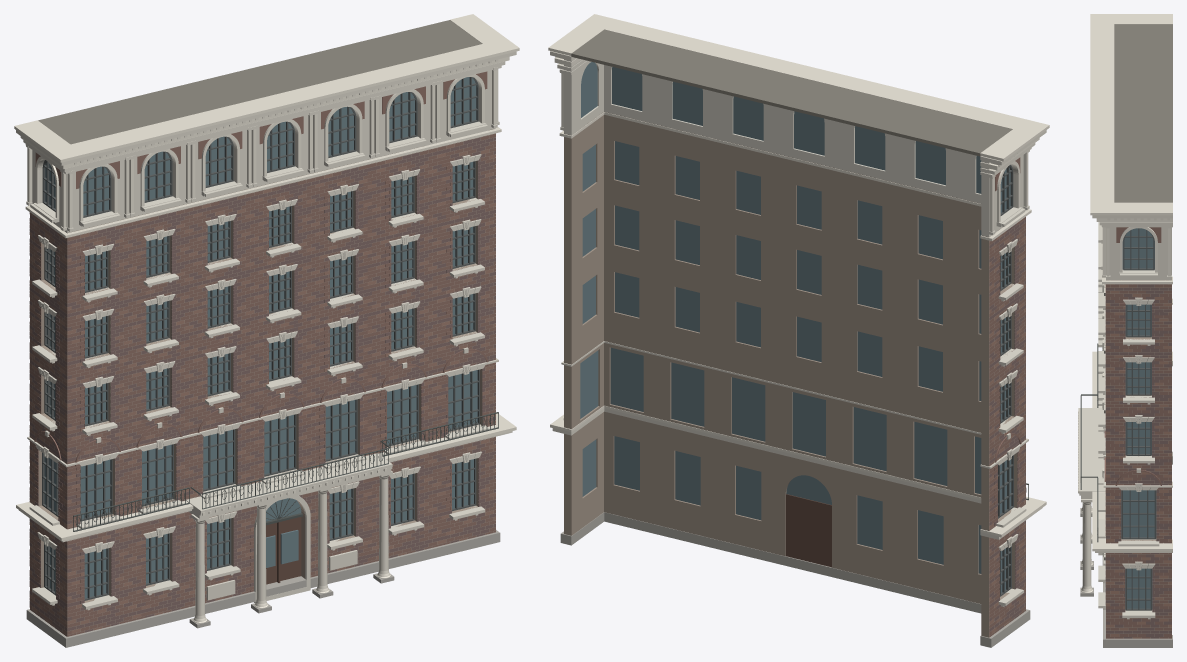
File: huangpu-american-club-web.glb
3 renders of one model, left to right at view 1: azimuth 30°, elevation 25°; view 2: azimuth 150°, elevation 25°; view 3: azimuth 270°, elevation 25°, orthographic. The views are drawn at different scales.
Visible parts, largest first — view 1: 美国花旗总会（福州路209号主立面）; view 2: 美国花旗总会（福州路209号主立面）; view 3: 美国花旗总会（福州路209号主立面）.
Boxes of the visible parts, left/top/right/bottom form: 美国花旗总会（福州路209号主立面）: left=14, top=14, right=519, bottom=647; 美国花旗总会（福州路209号主立面）: left=548, top=14, right=1049, bottom=647; 美国花旗总会（福州路209号主立面）: left=1078, top=14, right=1172, bottom=647.
Size of the model in its own units: 24.78 by 25.7 by 4.99.
